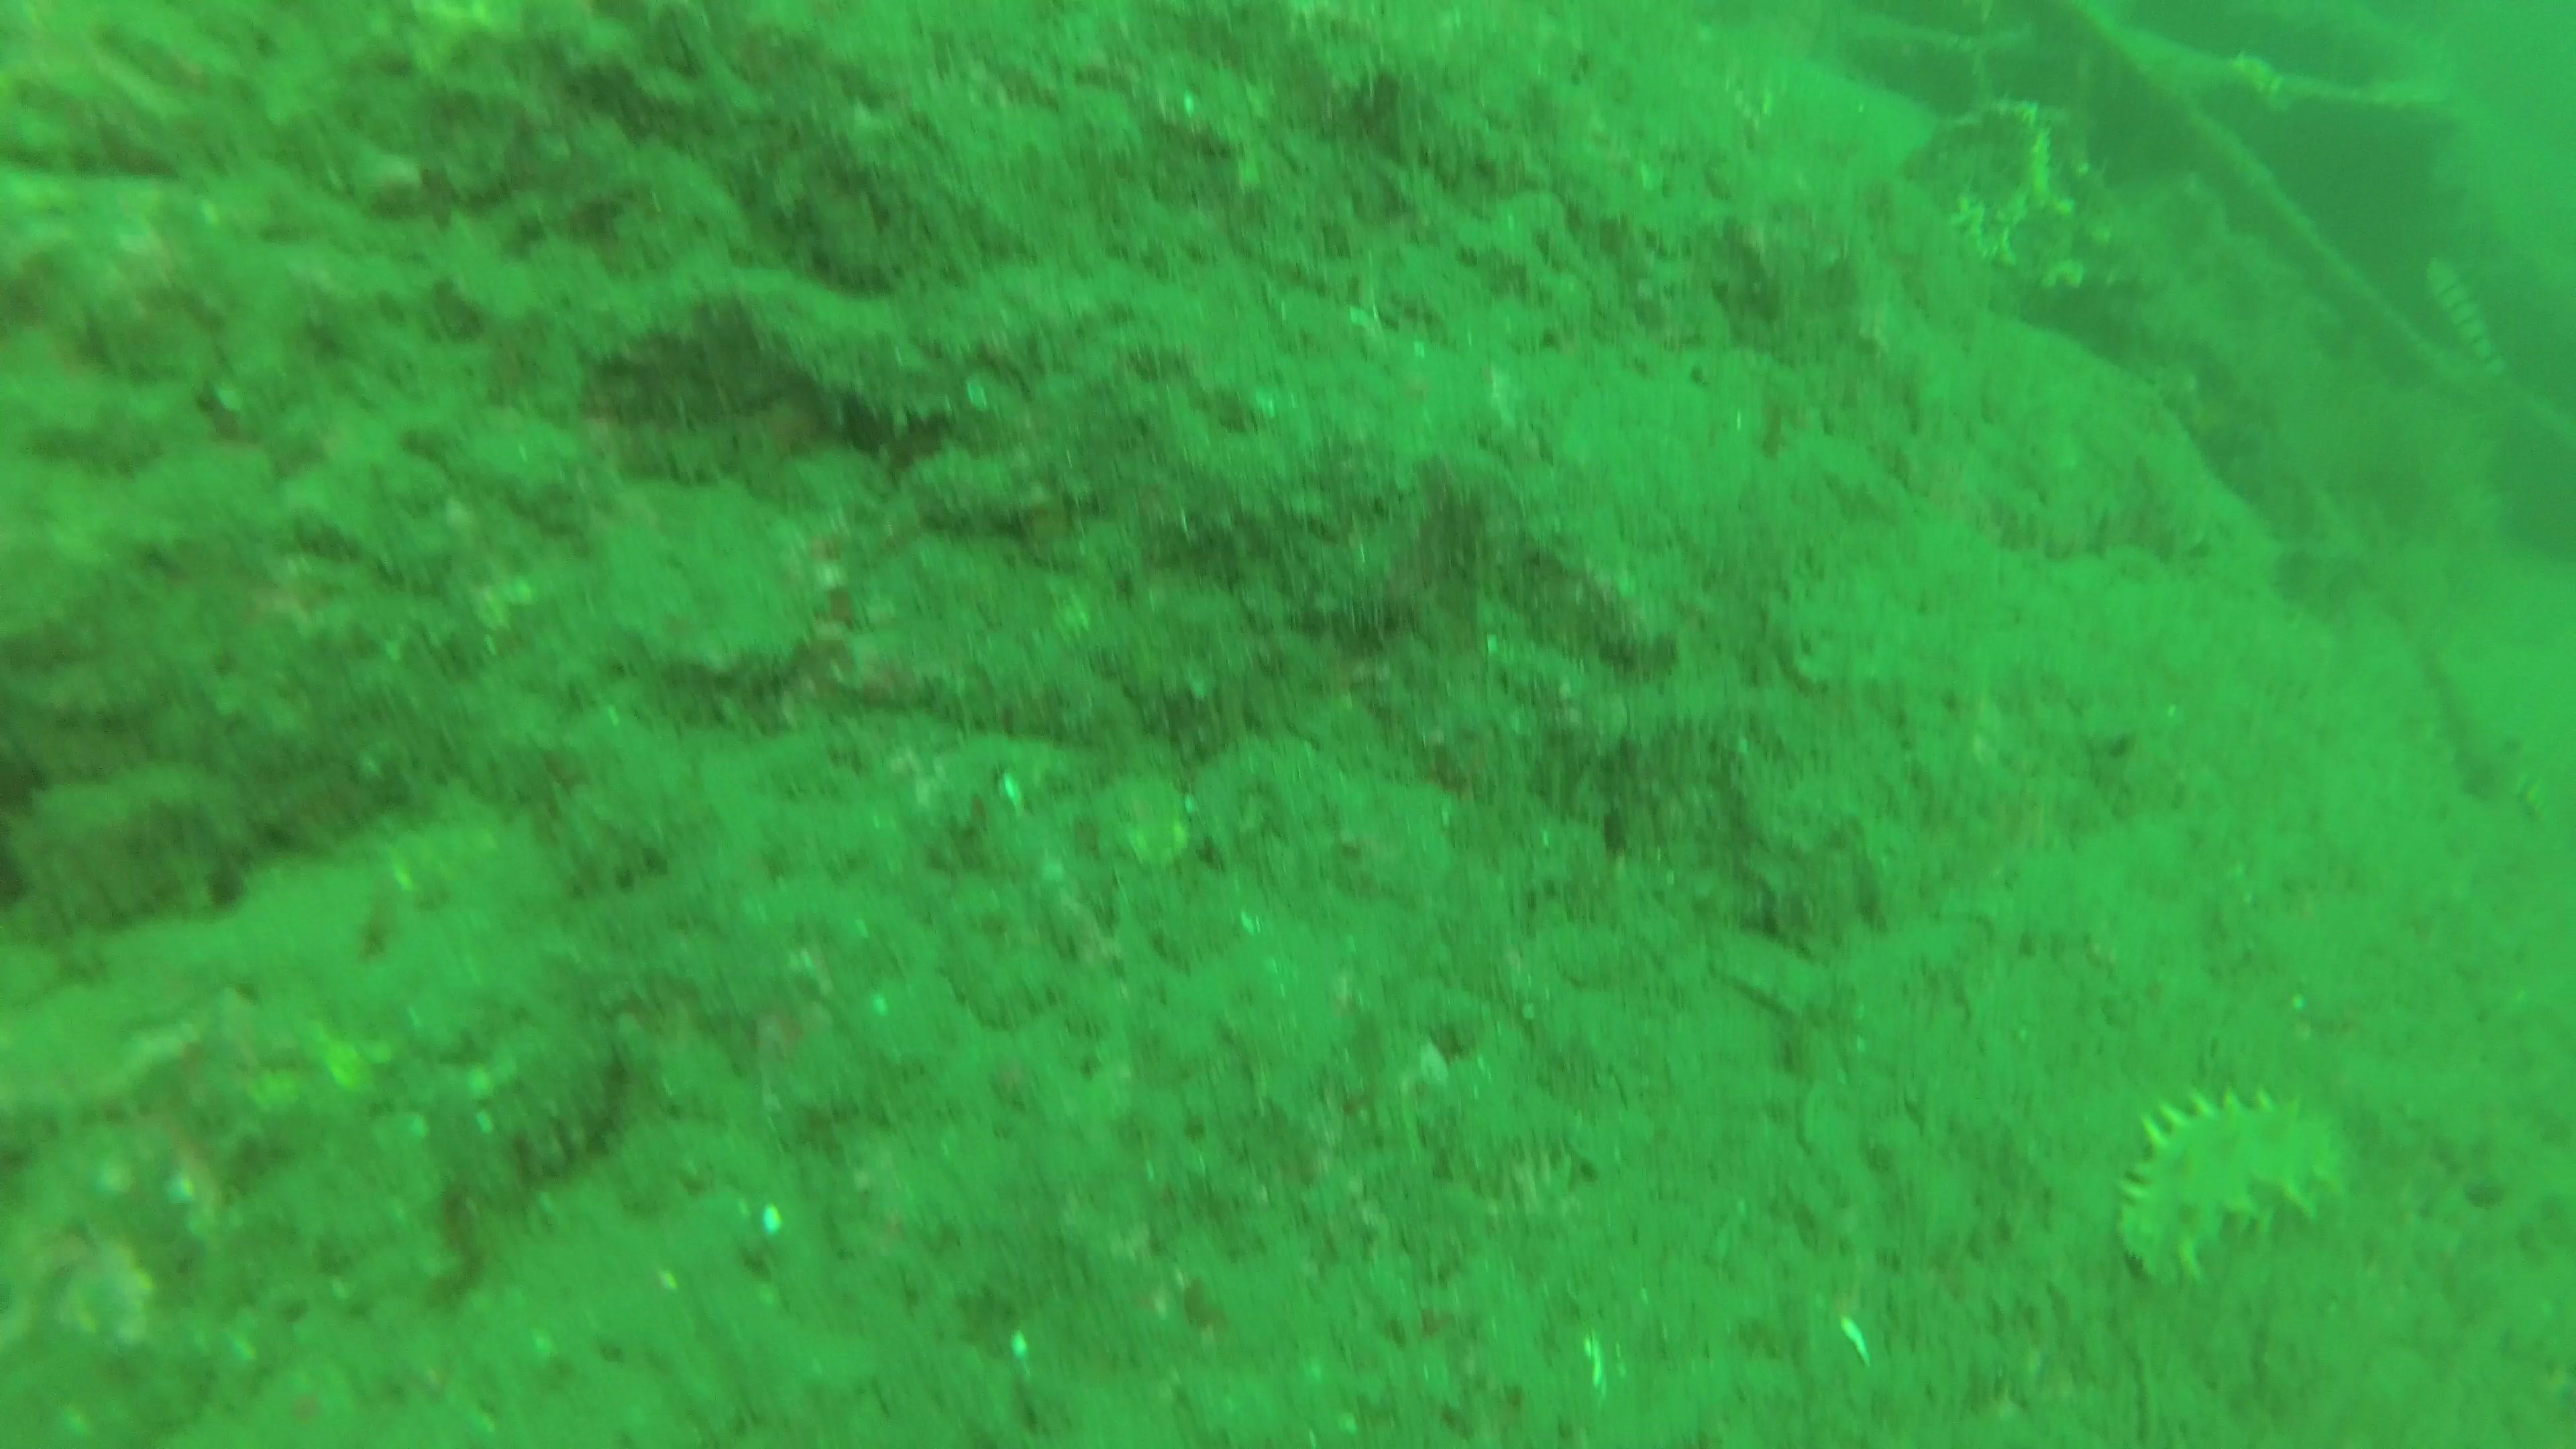holothurian: (2111, 1092, 2341, 1283)
